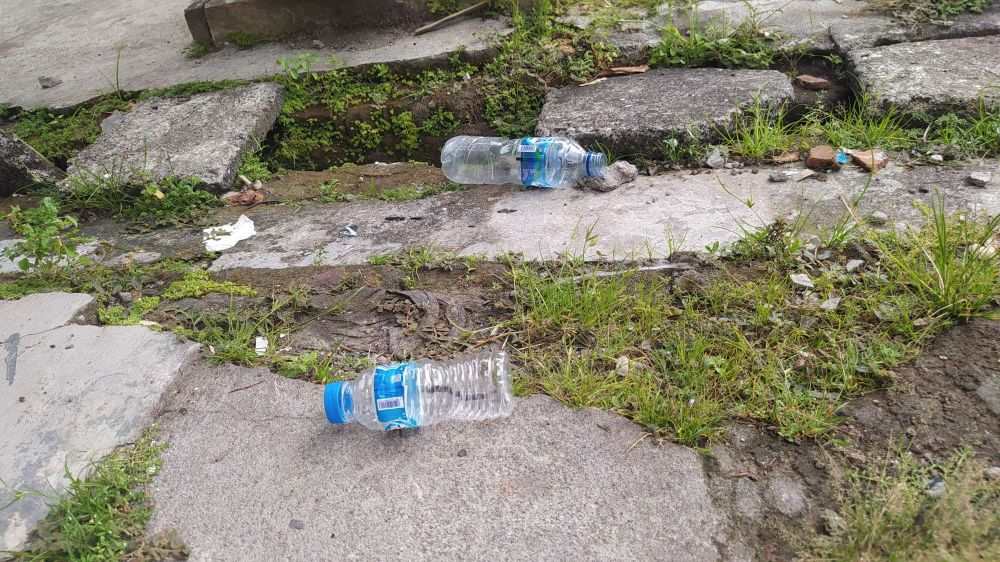botol: (314, 356, 543, 433), (431, 121, 615, 186)
